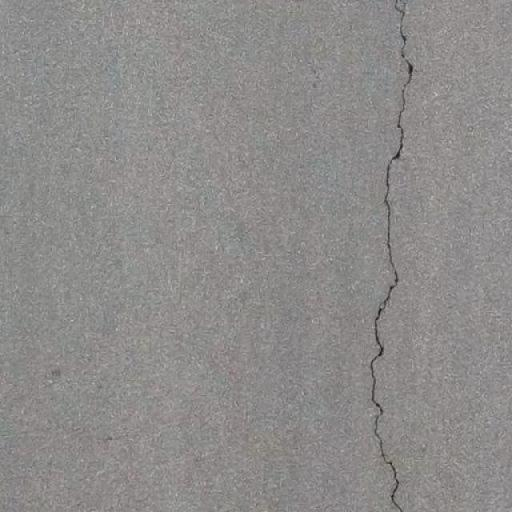moderate crack: (352, 0, 427, 512)
